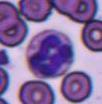N: (25, 29, 74, 79)
